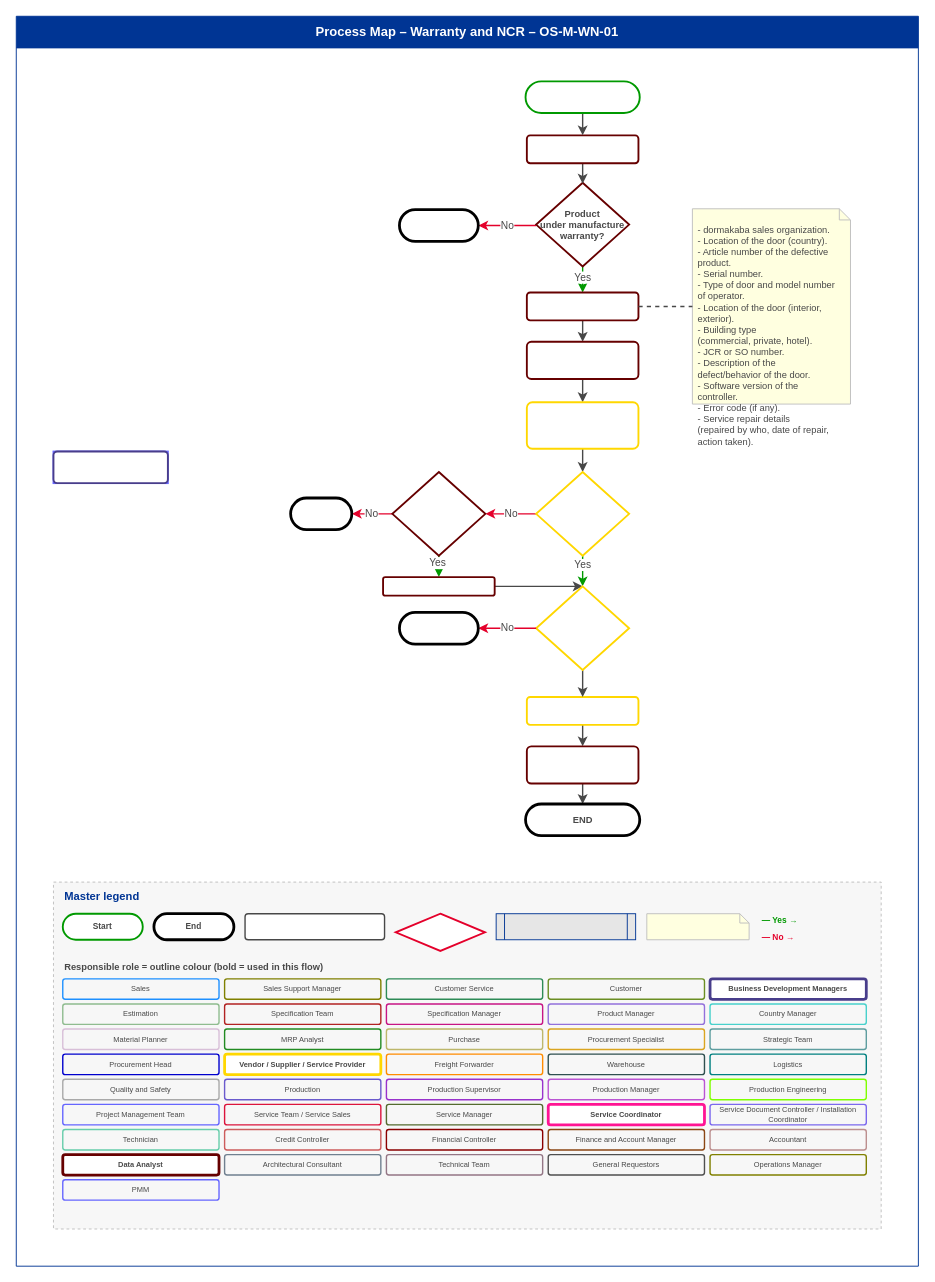
Image size: 935x1282. Some labels were removed from this diagram. Here are the shapes that lost their labels. From the top down, the centre of each, then its label:
At [582,96]: "warranty and NCR".
At [582,149]: "Evaluate technical Complain".
At [438,225]: "Claim cannot be processed!".
At [582,306]: "Collect product information".
At [582,359]: "Register claim via SAP PP1, along with Product details".
At [582,425]: "Factory review the Product detail, Picture and Video with defect explained".
At [321,513]: "Abort the claim!".
At [438,513]: "Check if freight cost worth the claim?".
At [582,513]: "Processed without Physical Sample?".
At [438,586]: "Ship sample to factory".
At [438,628]: "Claim Rejected!".
At [582,628]: "Claim Approved ?".
At [582,710]: "Receive credit note from Factory".
At [582,764]: "Request Finance to assign the credit note to replacement ordered".
At [314,926]: "Activity (outline = role)".
At [439,931]: "Decision".
At [565,926]: "Linked process (Ref ID)".
At [697,926]: "Note / checklist".
